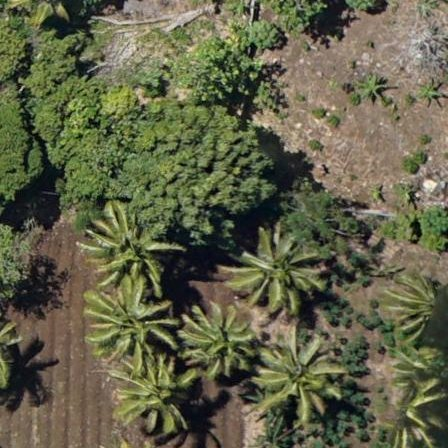palm_tree: (232, 222, 315, 311), (87, 275, 167, 360), (85, 197, 165, 282), (265, 335, 343, 418), (117, 357, 191, 429), (183, 305, 255, 375)
